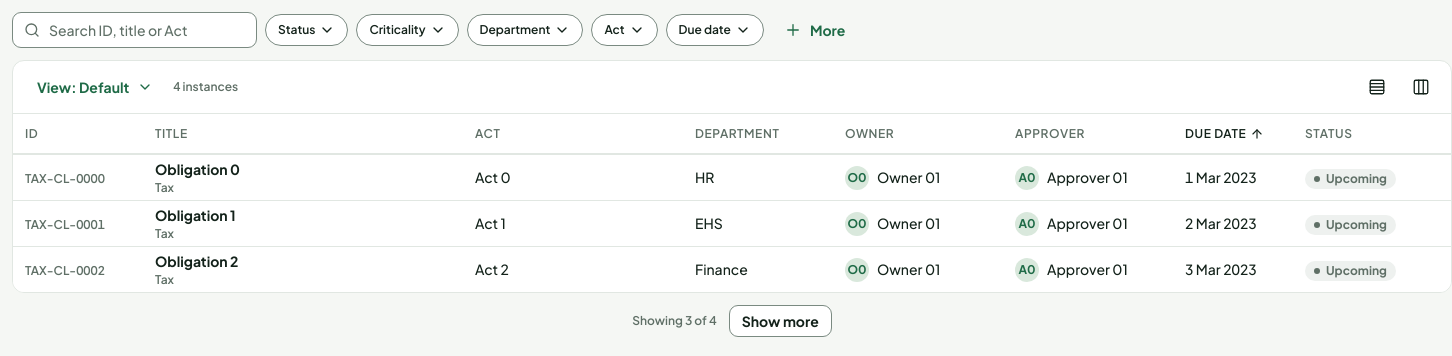
Test: RegisterView › loads the next page on request and stops when the server has no more
Expected: the text "Showing 3 of 4" is shown, [632,313,717,329]
Step 1. Click the button "Show more" → (780, 321), box [729,305,832,337]
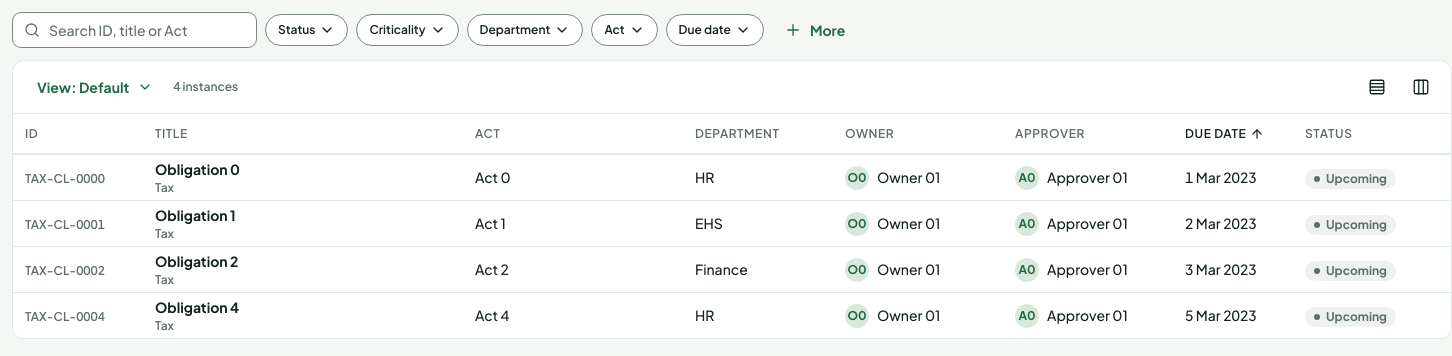
Expected: the link "Obligation 4" is shown, [155,298,239,316]
Expected: the button "Show more" is gone
